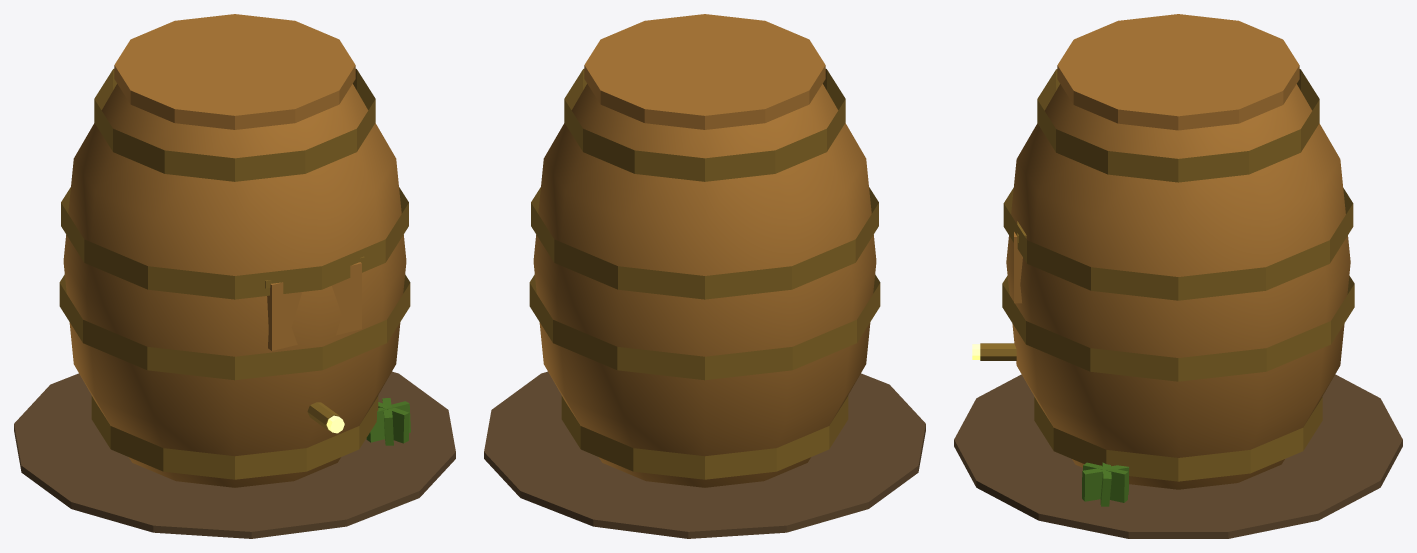
The model's file is SM_Barrel_Tavern_02_Closed.glb.
The picture shows the model from 3 angles, left to right: view 1: azimuth 30°, elevation 25°; view 2: azimuth 150°, elevation 25°; view 3: azimuth 270°, elevation 25°; orthographic projection.
Visible parts, largest first — view 1: SM_Barrel_Tavern_02_Closed_Body, SM_Barrel_Tavern_02_Closed_DirtRing, SM_Barrel_Tavern_02_Closed_Lid, SM_Barrel_Tavern_02_Closed_Hoop1, SM_Barrel_Tavern_02_Closed_Hoop2, SM_Barrel_Tavern_02_Closed_Hoop3, SM_Barrel_Tavern_02_Closed_Hoop0, SM_Barrel_Tavern_02_Closed_SignBoard, SM_Barrel_Tavern_02_Closed_Moss02, SM_Barrel_Tavern_02_Closed_Moss00; view 2: SM_Barrel_Tavern_02_Closed_Body, SM_Barrel_Tavern_02_Closed_DirtRing, SM_Barrel_Tavern_02_Closed_Lid, SM_Barrel_Tavern_02_Closed_Hoop2, SM_Barrel_Tavern_02_Closed_Hoop1, SM_Barrel_Tavern_02_Closed_Hoop3, SM_Barrel_Tavern_02_Closed_Hoop0; view 3: SM_Barrel_Tavern_02_Closed_Body, SM_Barrel_Tavern_02_Closed_DirtRing, SM_Barrel_Tavern_02_Closed_Lid, SM_Barrel_Tavern_02_Closed_Hoop2, SM_Barrel_Tavern_02_Closed_Hoop1, SM_Barrel_Tavern_02_Closed_Hoop3, SM_Barrel_Tavern_02_Closed_Hoop0, SM_Barrel_Tavern_02_Closed_Moss02, SM_Barrel_Tavern_02_Closed_Moss01, SM_Barrel_Tavern_02_Closed_Tap.
Part boxes in pixels (x1,y1,x2,y2): SM_Barrel_Tavern_02_Closed_Body: [63, 84, 406, 487]; SM_Barrel_Tavern_02_Closed_DirtRing: [14, 371, 455, 538]; SM_Barrel_Tavern_02_Closed_Lid: [114, 14, 355, 129]; SM_Barrel_Tavern_02_Closed_Hoop1: [59, 274, 410, 380]; SM_Barrel_Tavern_02_Closed_Hoop2: [61, 187, 408, 299]; SM_Barrel_Tavern_02_Closed_Hoop3: [94, 69, 375, 181]; SM_Barrel_Tavern_02_Closed_Hoop0: [91, 395, 378, 479]; SM_Barrel_Tavern_02_Closed_SignBoard: [267, 262, 361, 350]; SM_Barrel_Tavern_02_Closed_Moss02: [378, 402, 409, 443]; SM_Barrel_Tavern_02_Closed_Moss00: [366, 401, 410, 442]; SM_Barrel_Tavern_02_Closed_Body: [533, 84, 876, 487]; SM_Barrel_Tavern_02_Closed_DirtRing: [484, 371, 925, 538]; SM_Barrel_Tavern_02_Closed_Lid: [584, 14, 825, 129]; SM_Barrel_Tavern_02_Closed_Hoop2: [531, 187, 878, 299]; SM_Barrel_Tavern_02_Closed_Hoop1: [529, 274, 880, 380]; SM_Barrel_Tavern_02_Closed_Hoop3: [564, 69, 845, 181]; SM_Barrel_Tavern_02_Closed_Hoop0: [561, 395, 848, 479]; SM_Barrel_Tavern_02_Closed_Body: [1006, 84, 1350, 489]; SM_Barrel_Tavern_02_Closed_DirtRing: [954, 374, 1402, 538]; SM_Barrel_Tavern_02_Closed_Lid: [1057, 14, 1299, 130]; SM_Barrel_Tavern_02_Closed_Hoop2: [1003, 188, 1353, 300]; SM_Barrel_Tavern_02_Closed_Hoop1: [1002, 275, 1354, 381]; SM_Barrel_Tavern_02_Closed_Hoop3: [1037, 69, 1319, 182]; SM_Barrel_Tavern_02_Closed_Hoop0: [1034, 397, 1322, 481]; SM_Barrel_Tavern_02_Closed_Moss02: [1082, 465, 1129, 501]; SM_Barrel_Tavern_02_Closed_Moss01: [1083, 462, 1128, 502]; SM_Barrel_Tavern_02_Closed_Tap: [980, 343, 1016, 360].
Bounding box in the file's own units: 0.8384 × 0.8138 × 0.86.
